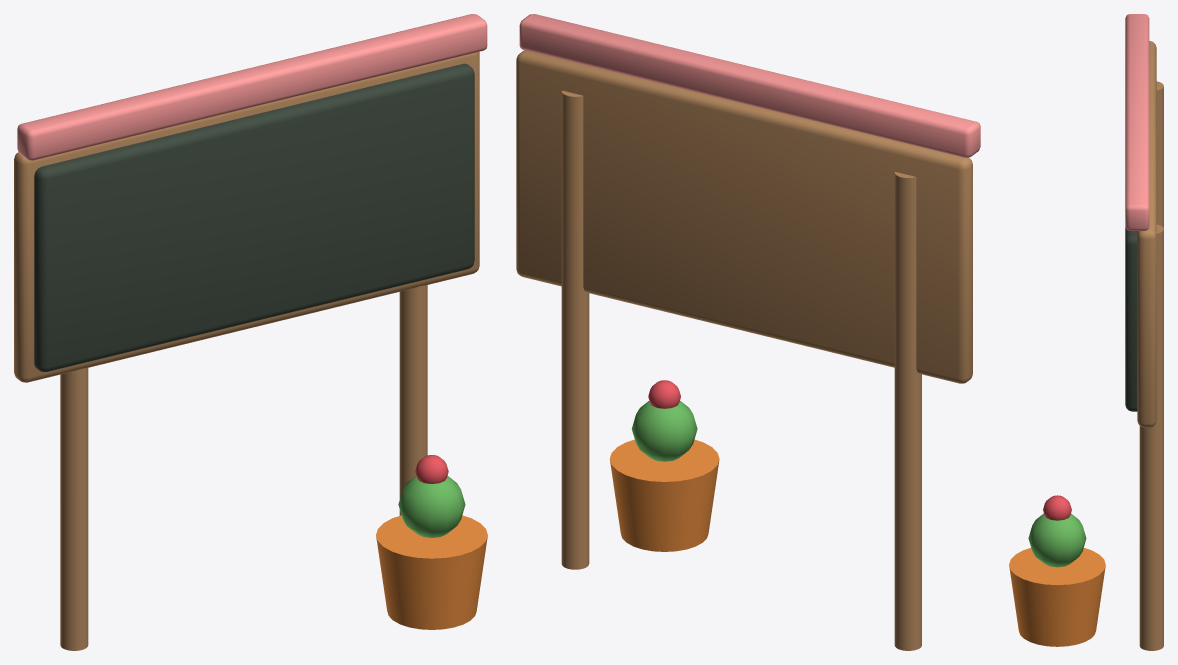
The model's file is market_sign.glb.
3 renders of one model, left to right at view 1: azimuth 30°, elevation 25°; view 2: azimuth 150°, elevation 25°; view 3: azimuth 270°, elevation 25°, orthographic. The views are drawn at different scales.
Visible parts, largest first — view 1: market_sign; view 2: market_sign; view 3: market_sign.
Boxes of the visible parts, <box> form: market_sign: <box>14,14,487,650</box>; market_sign: <box>516,14,980,650</box>; market_sign: <box>1009,14,1163,650</box>.
Size of the model in its own units: 1.9 by 2.12 by 0.64.
